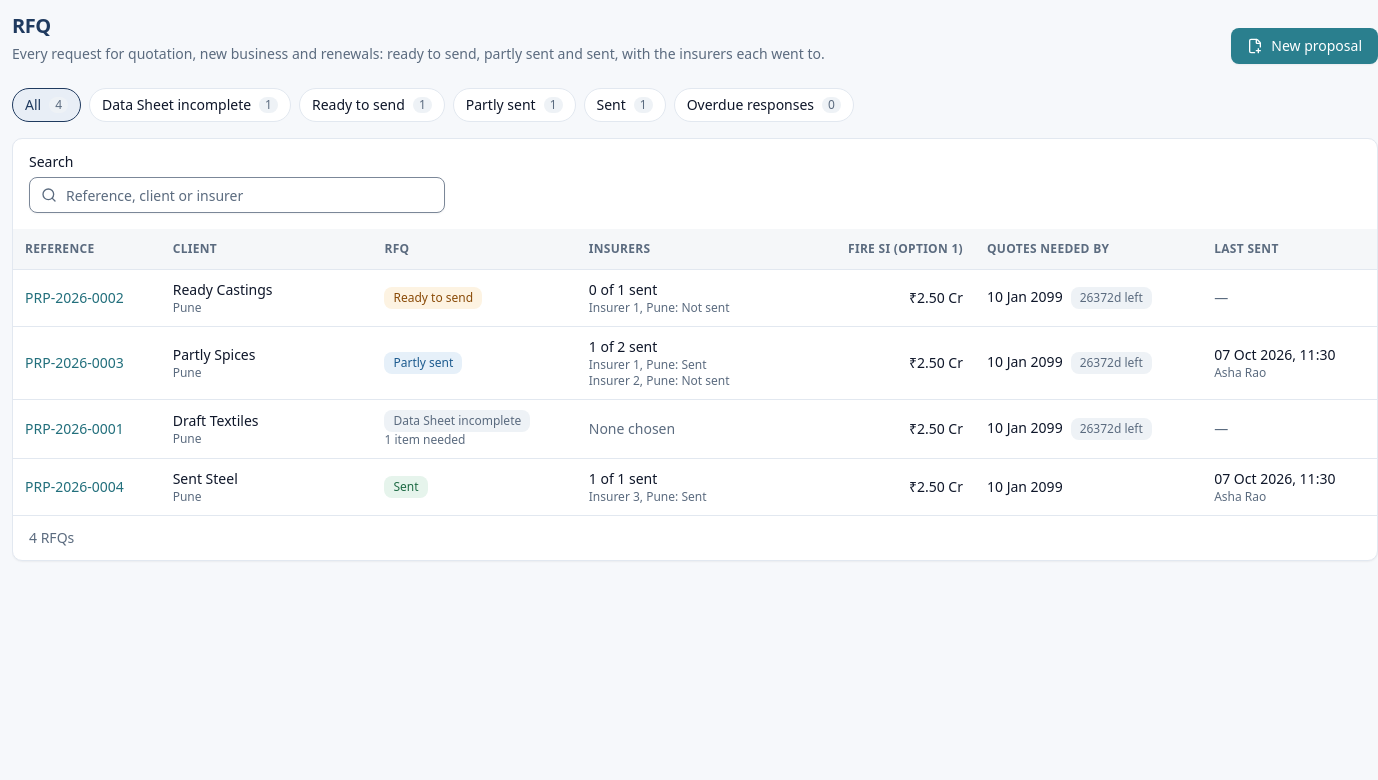
Scenario: RfqView › filters by status and search through the URL
Expected: the text "Ready Castings" is shown, [173, 280, 273, 298]
Click the button with aria-label "Sent (1)" at (625, 105), box [584, 88, 666, 122]
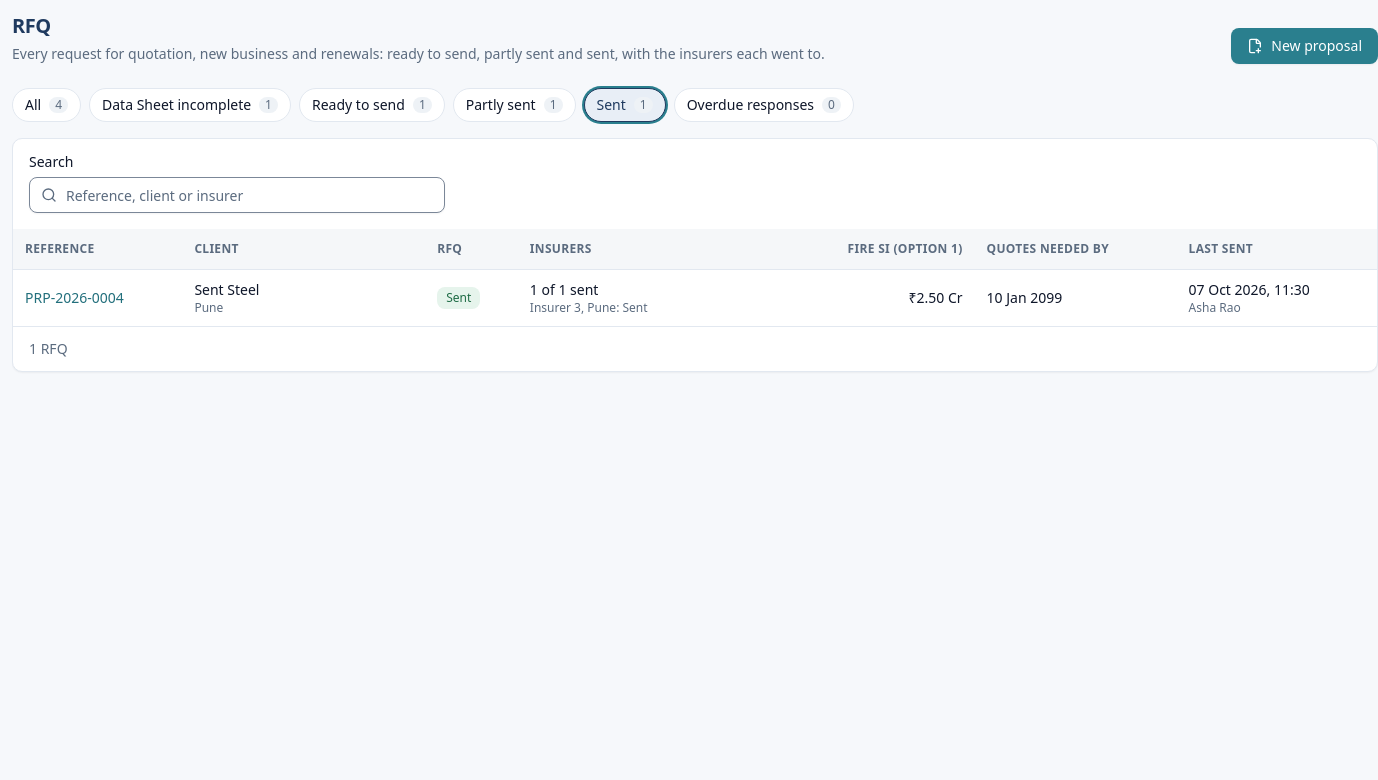
Expected: the text "Sent Steel" is shown, [194, 280, 260, 298]
Expected: the text "Ready Castings" is gone
Click the button with aria-label "All (4)" at (46, 105), box [12, 88, 81, 122]
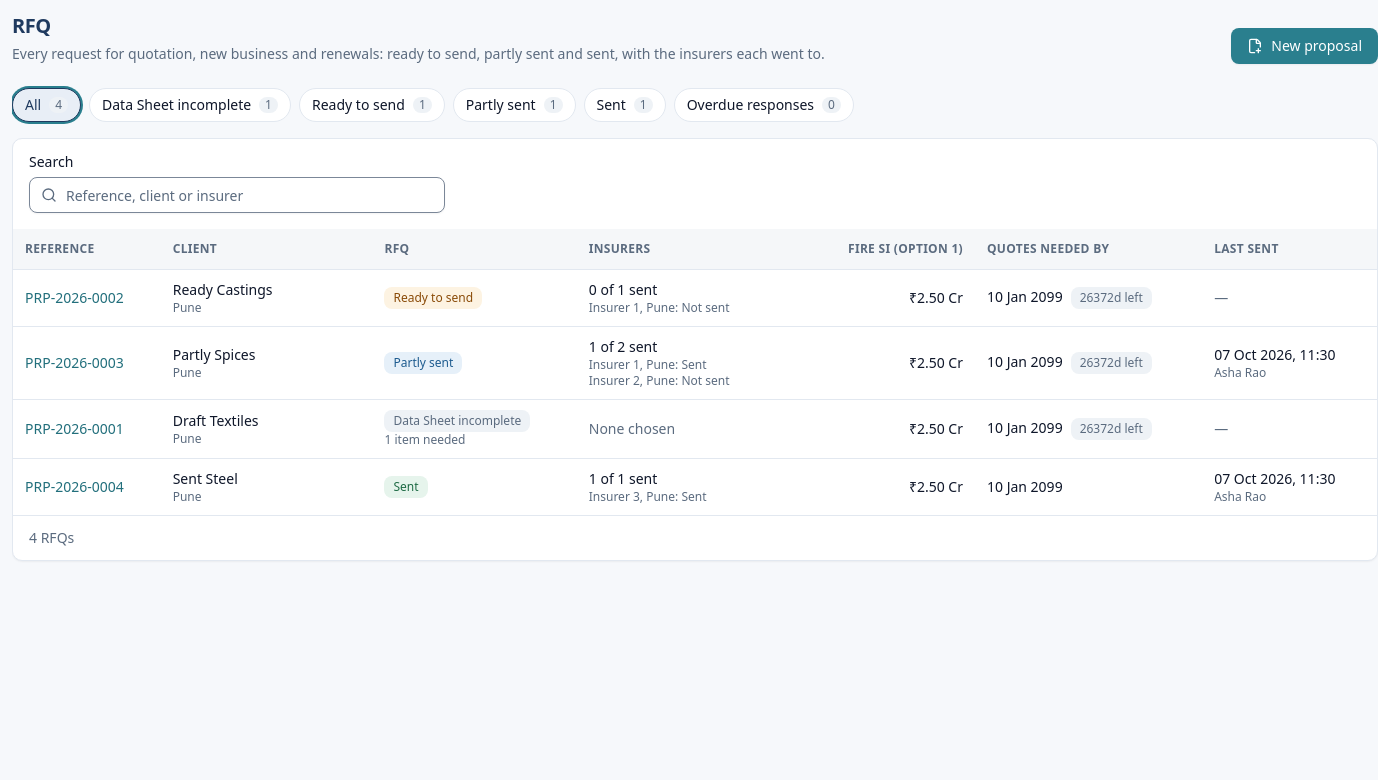
Type "spices" into the search field labelled "Search" at (237, 195), box [29, 177, 445, 213]
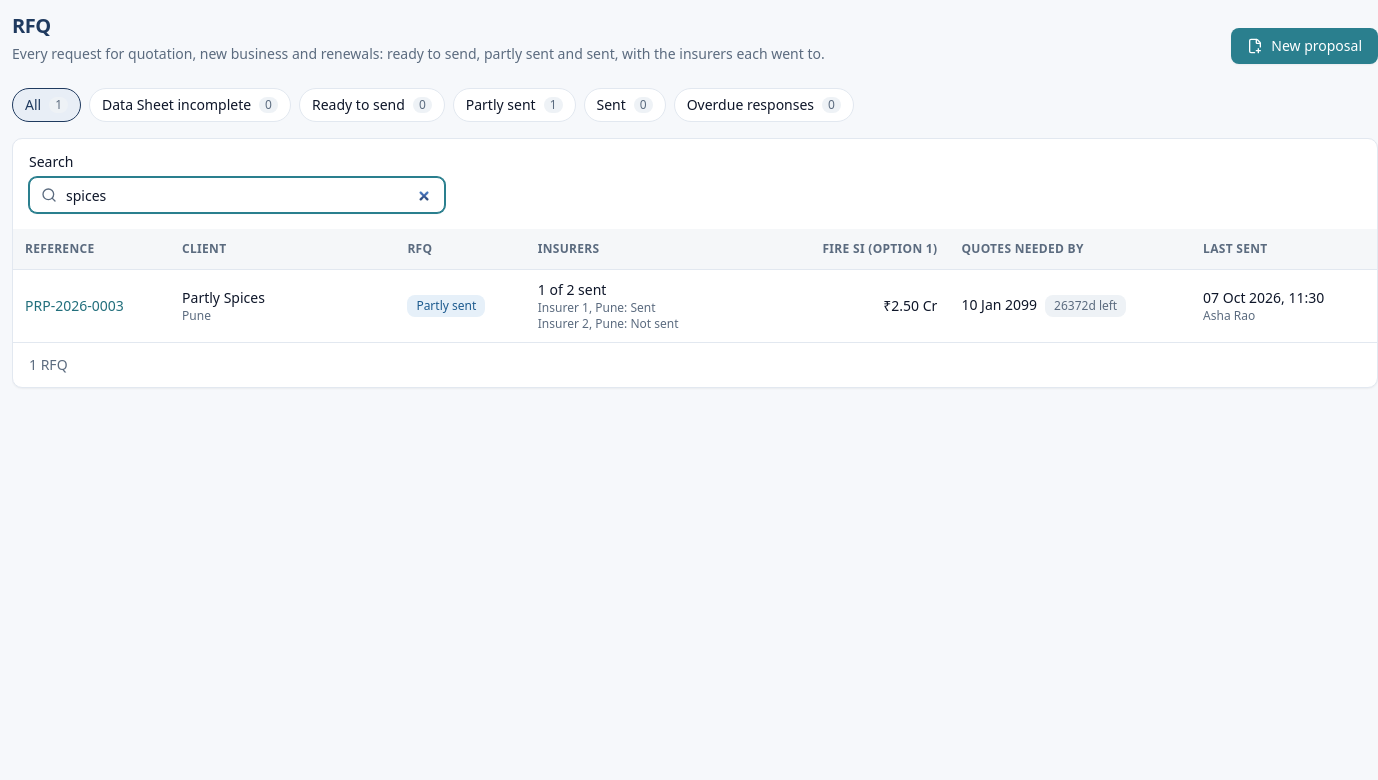
Expected: the text "Partly Spices" is shown, [182, 288, 265, 306]
Expected: the text "Sent Steel" is gone
